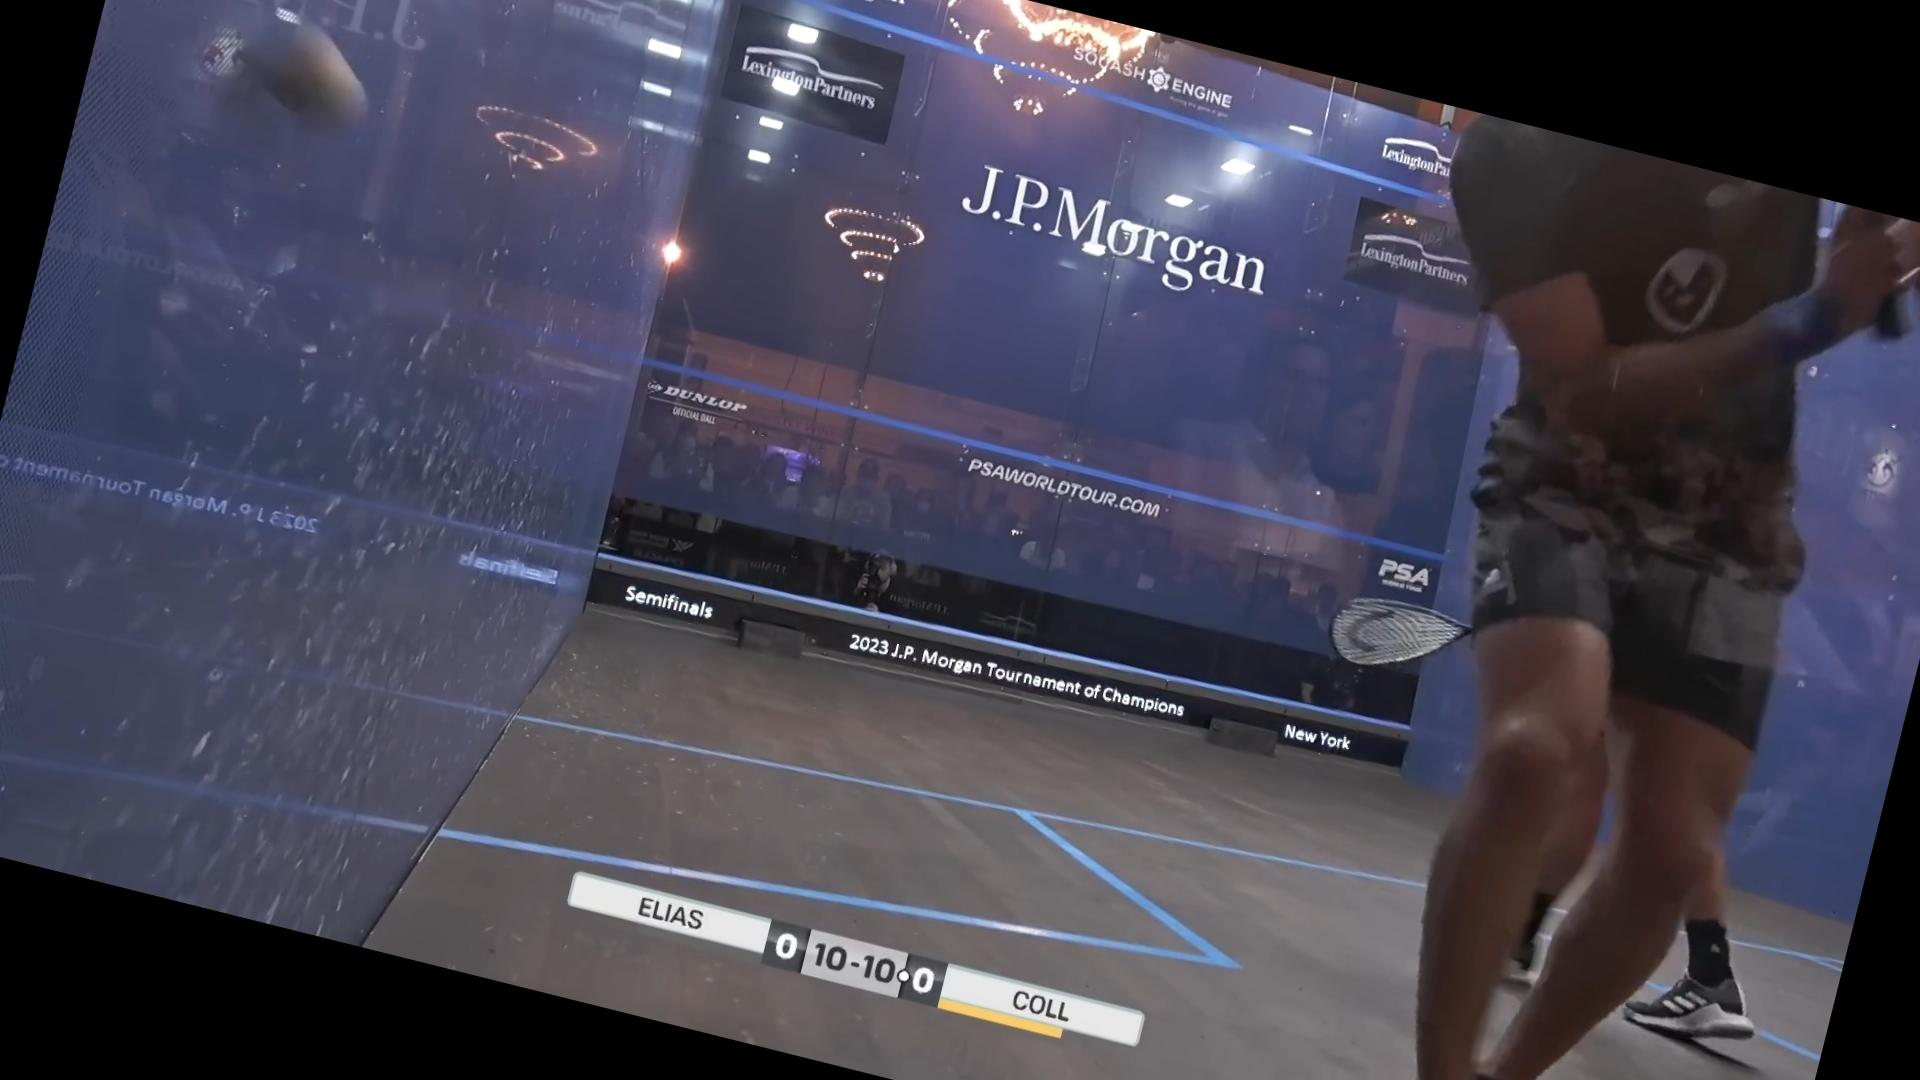Racket: (1315, 576, 1478, 700)
